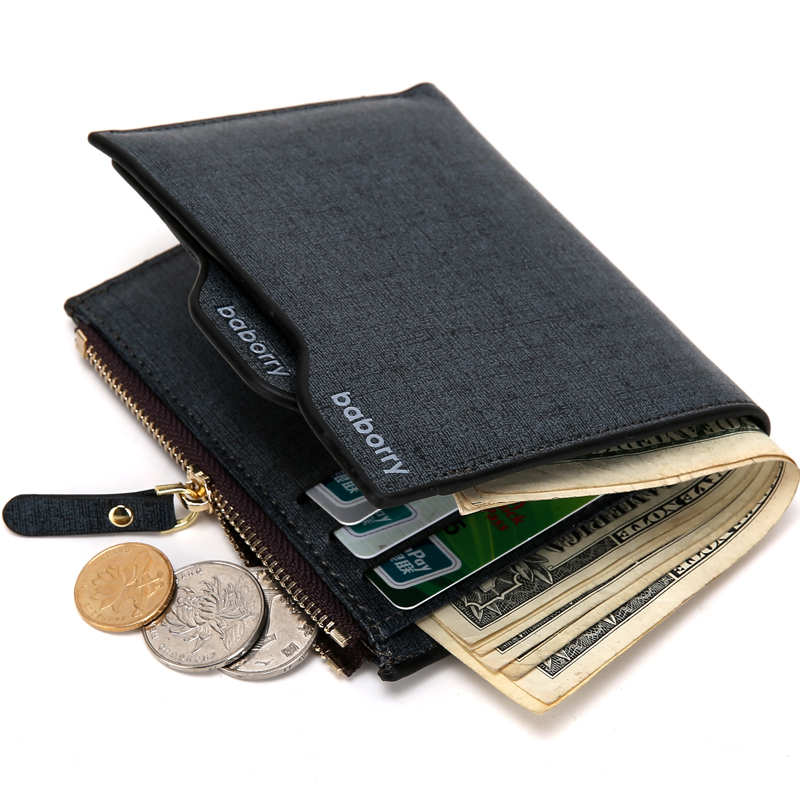monedero: (59, 79, 779, 685)
